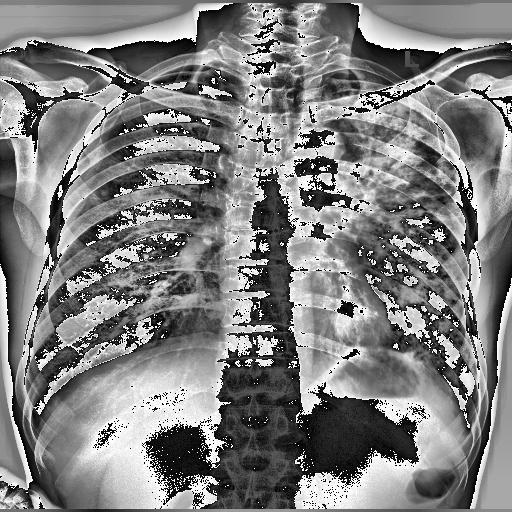13- Pulmonary fibrosis: (338, 86, 466, 338), (364, 149, 468, 328)
4- Consolidation: (333, 82, 429, 238), (325, 87, 430, 217), (344, 86, 429, 189)
6- Infiltration: (364, 181, 460, 331), (90, 188, 110, 206)
